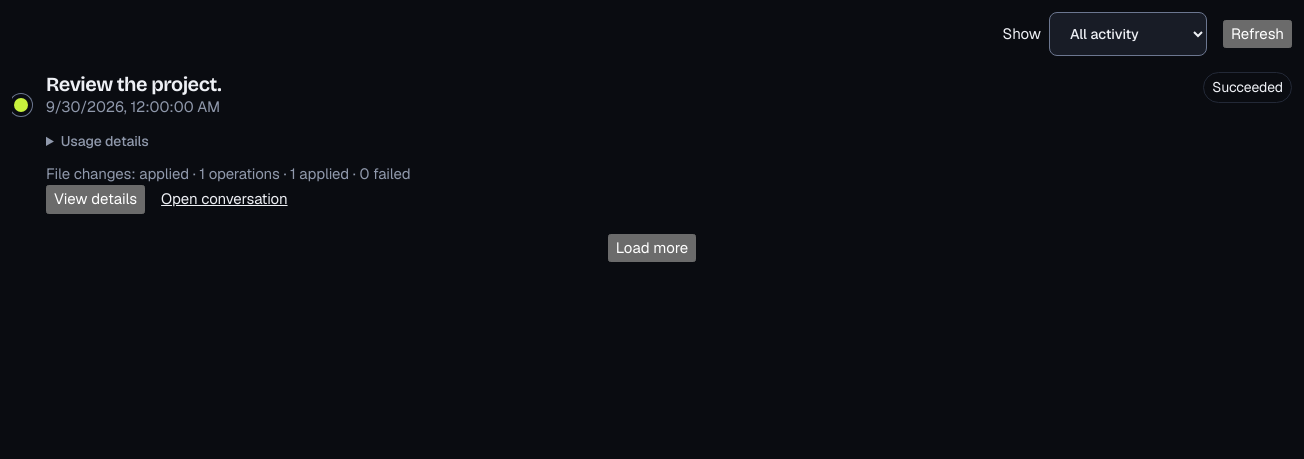
Test: ProjectActivityPanel › announces when another activity page has finished loading
Expected: the heading "Review the project." is shown, [46,72,221,96]
What coordinates should you click on to do the following:
click the button "Load more"
I would click on:
 (652, 248)
Its box is [608,234,696,262].
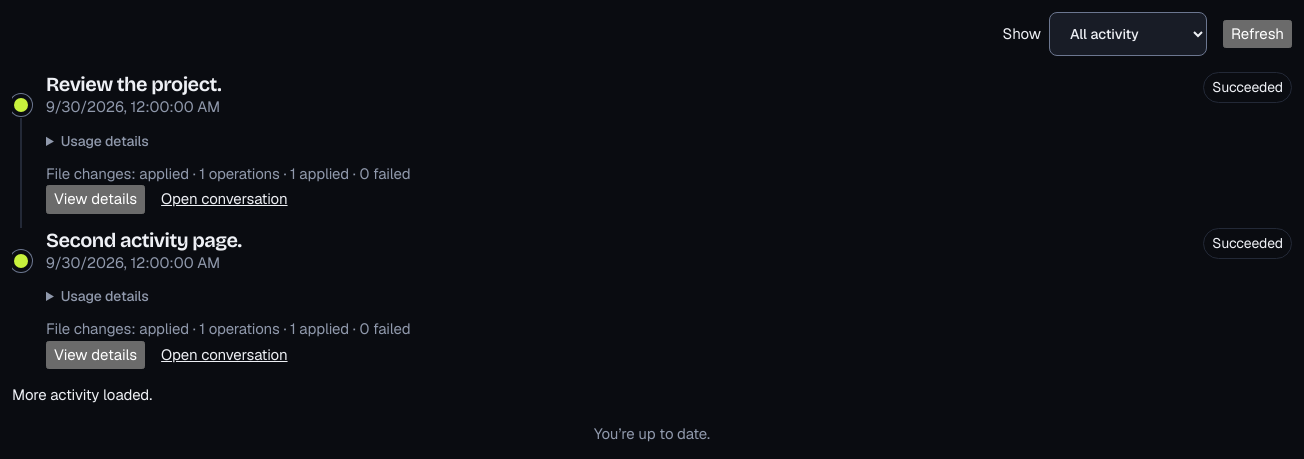
Now the message with test id "activity-load-more-status" reads "More activity loaded.", box [12,385,152,404]
Now the heading "Second activity page." is shown, box [46,228,242,252]
